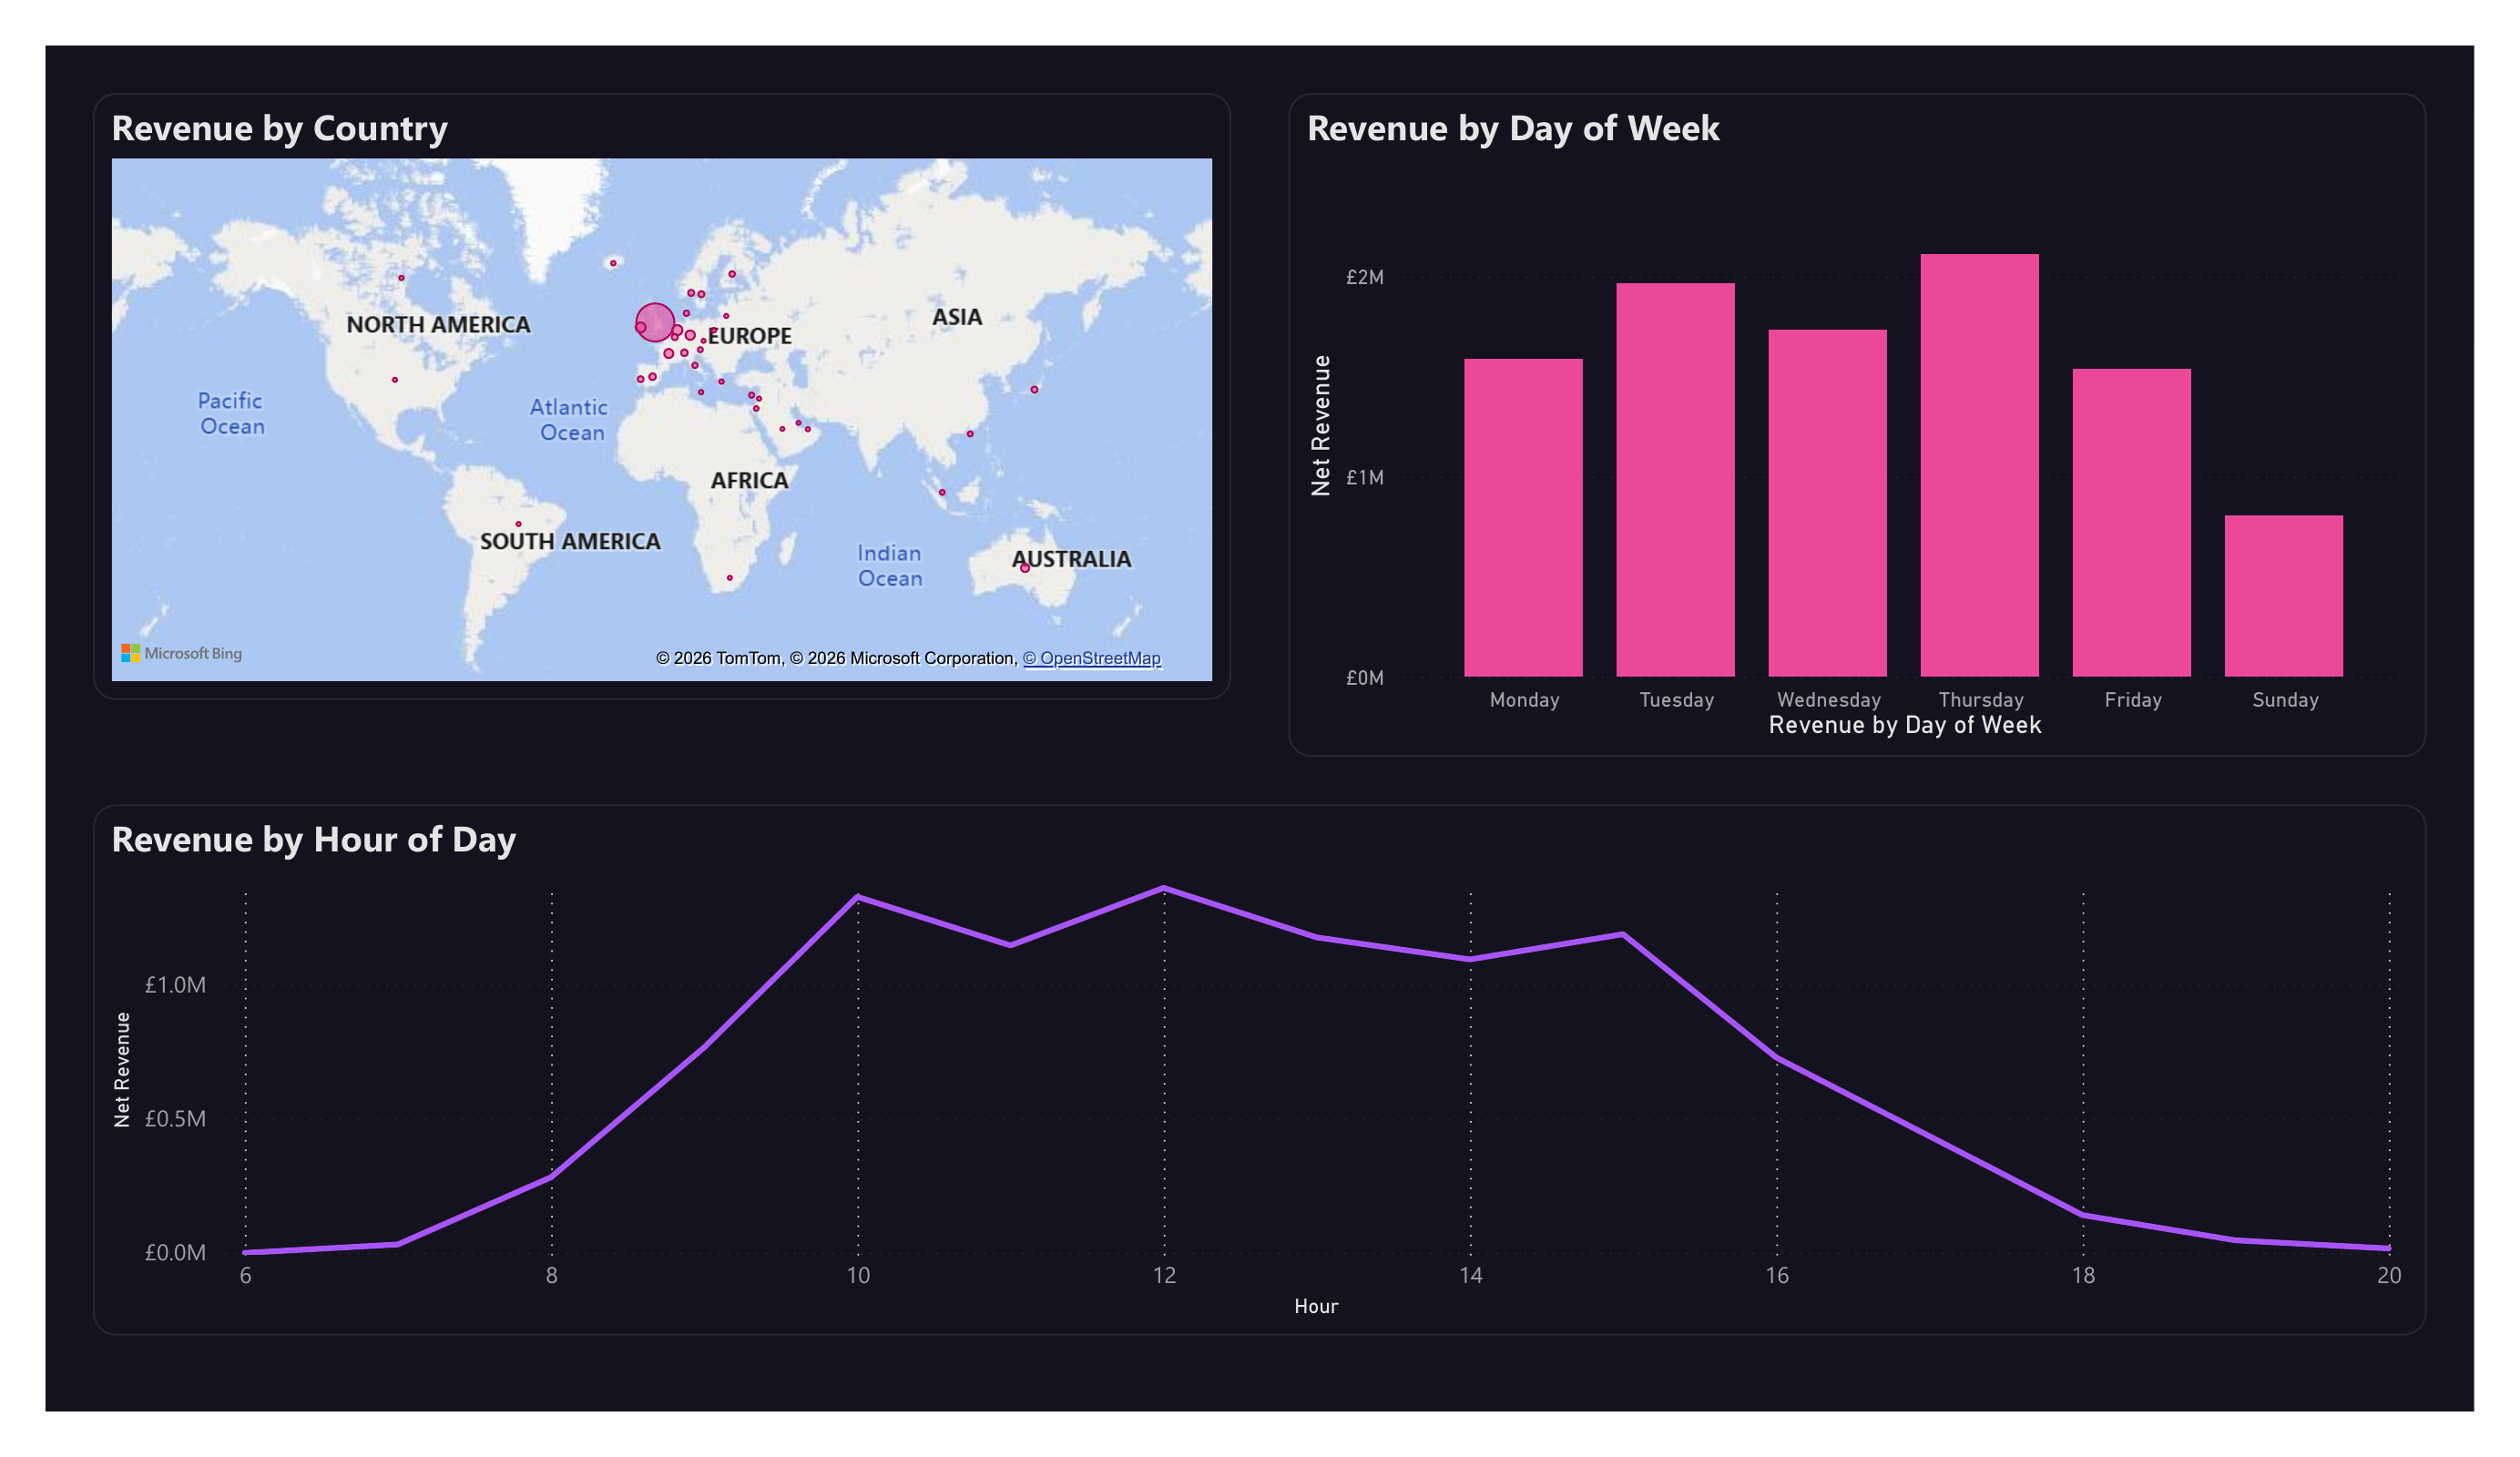

This screenshot's page, from the dashboard's own definition file:
{"tool":"powerbi","page":{"name":"Geographic & Time Analysis.","canvas":[1280,720],"ordinal":3},"visuals":[{"type":"map","title":"Revenue by Country","fields":{"Category":["online_retail_clean.country"],"Size":["_Measures.Net Revenue"]},"box":[25,25,600,320],"z":0},{"type":"clusteredColumnChart","title":"Revenue by Day of Week","fields":{"Category":["online_retail_clean.DayOfWeek"],"Y":["_Measures.Net Revenue"]},"box":[655,25,600,350],"z":1000},{"type":"lineChart","title":"Revenue by Hour of Day","fields":{"Category":["online_retail_clean.Hour"],"Y":["_Measures.Net Revenue"]},"box":[25,400,1230,280],"z":2000}]}

Visuals, with their boxes on the page's 1280x720 design canvas (x1, y1, x2, y2). These are canvas units, not pixel positions in the 2520x1457 screenshot, which may show the page scaled, cropped or inside an application window:
"Revenue by Country" map: {"x1": 25, "y1": 25, "x2": 625, "y2": 345}
"Revenue by Day of Week" clusteredColumnChart: {"x1": 655, "y1": 25, "x2": 1255, "y2": 375}
"Revenue by Hour of Day" lineChart: {"x1": 25, "y1": 400, "x2": 1255, "y2": 680}
